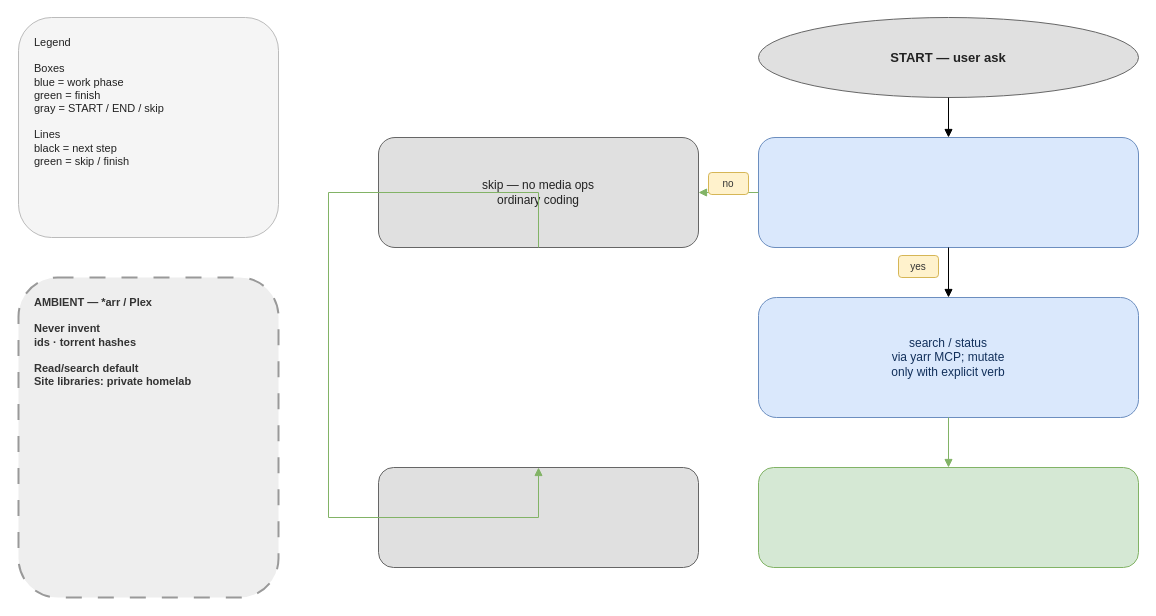
This 1156x616 diagram has some shape labels left out. The shapes that lost their labels are listed below. From the top down, each one's centre as x and y in pixels, then its label:
pixel 948 192: gate · media fleet? *arr / Plex / qBit / Seerr / Tautulli ask
pixel 538 517: END — stay out
pixel 948 517: END — title/id + action taken
